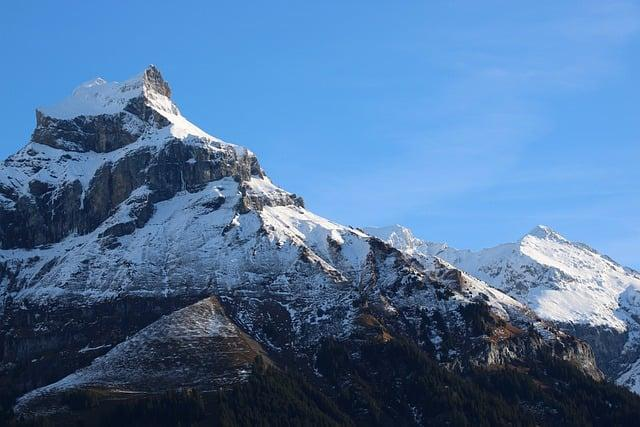Non_Gorille: (51, 63, 536, 366)
